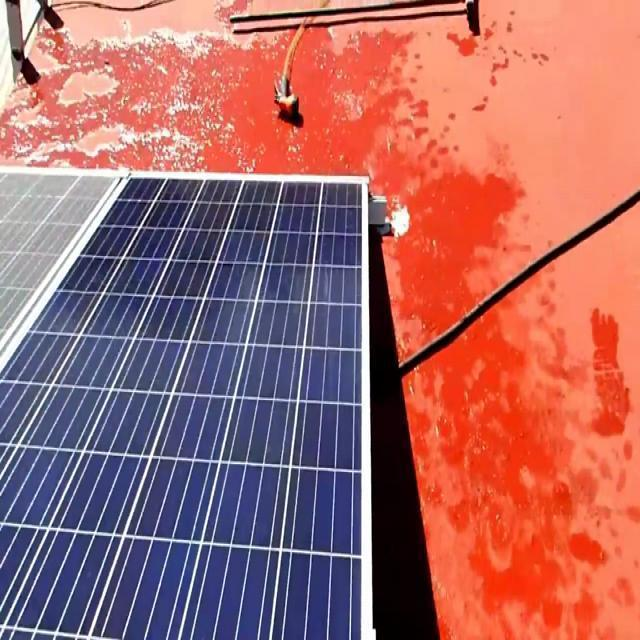Normal Solar Panel: (1, 177, 368, 640)
